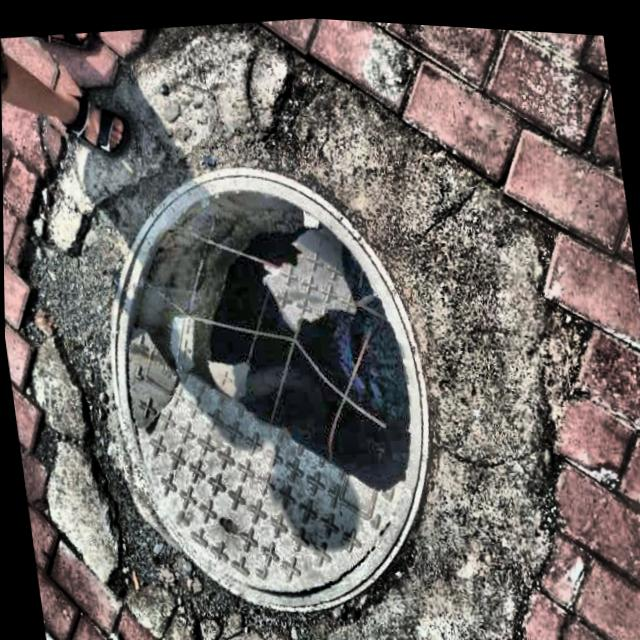open_manhole: (113, 167, 429, 592)
